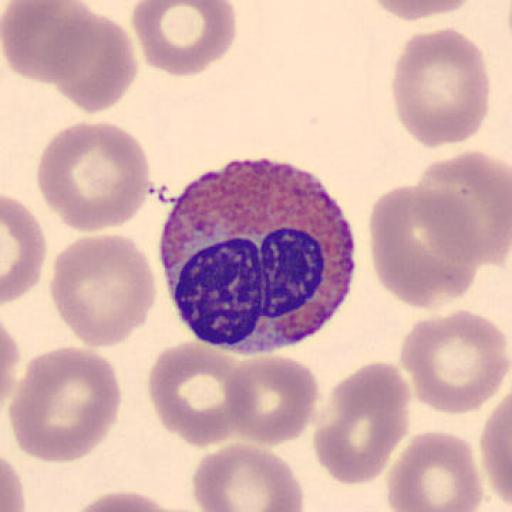RBC: (368, 182, 482, 313), (13, 0, 139, 116), (7, 344, 122, 464), (36, 118, 152, 233), (48, 231, 158, 350), (312, 360, 412, 485), (390, 26, 490, 150), (398, 308, 511, 416), (413, 148, 511, 268), (147, 340, 250, 448), (50, 6, 138, 115), (220, 353, 320, 447), (130, 1, 238, 78), (191, 440, 305, 512), (2, 0, 98, 85), (386, 430, 484, 512), (1, 193, 47, 305), (479, 393, 511, 512), (66, 489, 193, 512), (368, 0, 474, 23), (0, 317, 21, 408), (1, 454, 26, 512)
WBC: (162, 156, 359, 352)
